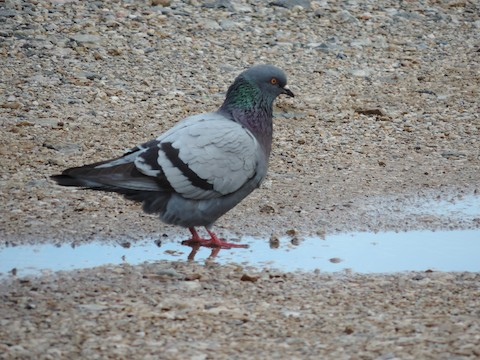pigeon: (50, 57, 300, 257)
